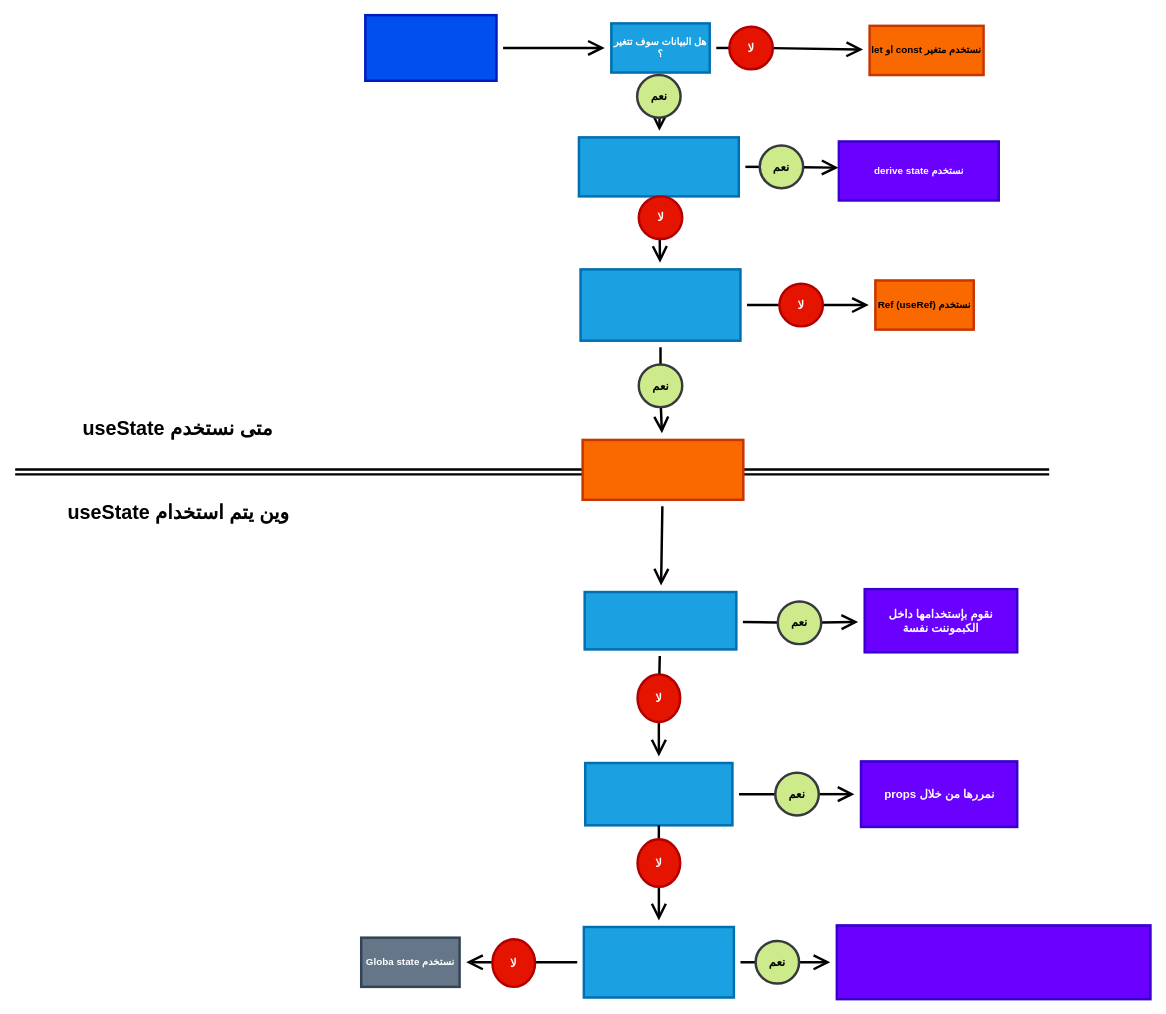
The diagram is 1166 pixels wide and 1014 high, and some of its shapes have lost their labels. The shapes that lost their labels are listed below. From the top down, each one's centre as x and y in pixels, then its label:
(430,48): نحتاج الى تخزين البيانات؟
(658,166): هل يمكن تخزين من خلال state او prop موجوده اصلا في الكمبوننت
(660,305): هل نحتاج الى re-render للكمبوننت؟
(662,469): نستخدم state (useState) جديدة
(660,620): فقط تستخدم بداخل الكمبوننت نفسه؟
(658,793): ايضا هل يقوم بإستخدامها child component?
(658,961): هل سوف تستخدم من خلال كمبوننت منفصل؟
(993,962): نقوم بوضع الـ state بداخل parent common parent component
